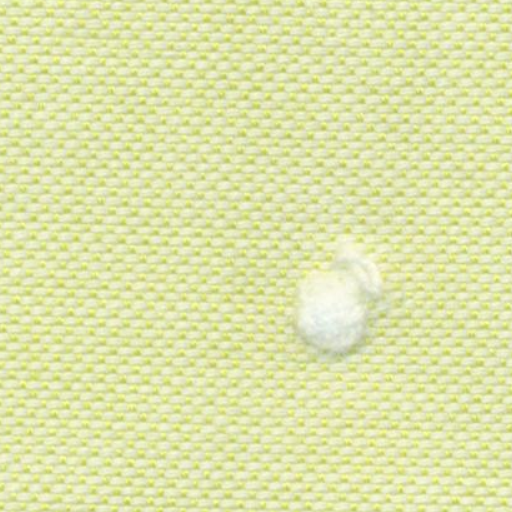MianQiu: (264, 232, 416, 375)
